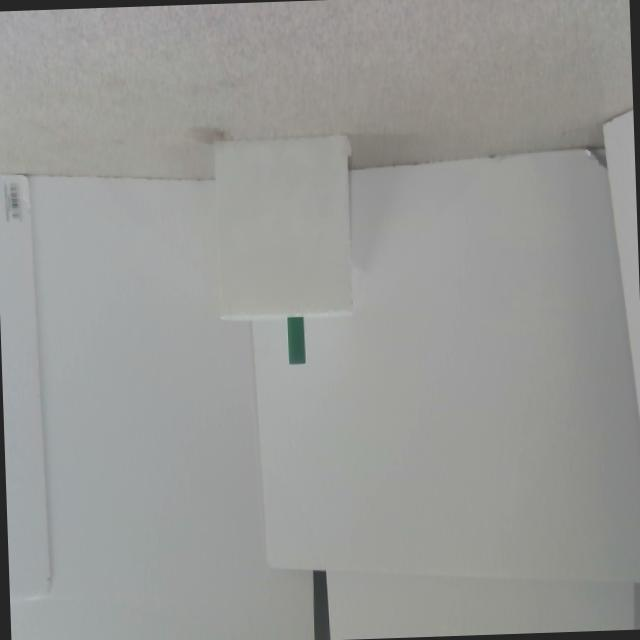green_cylinder: (286, 316, 306, 365)
